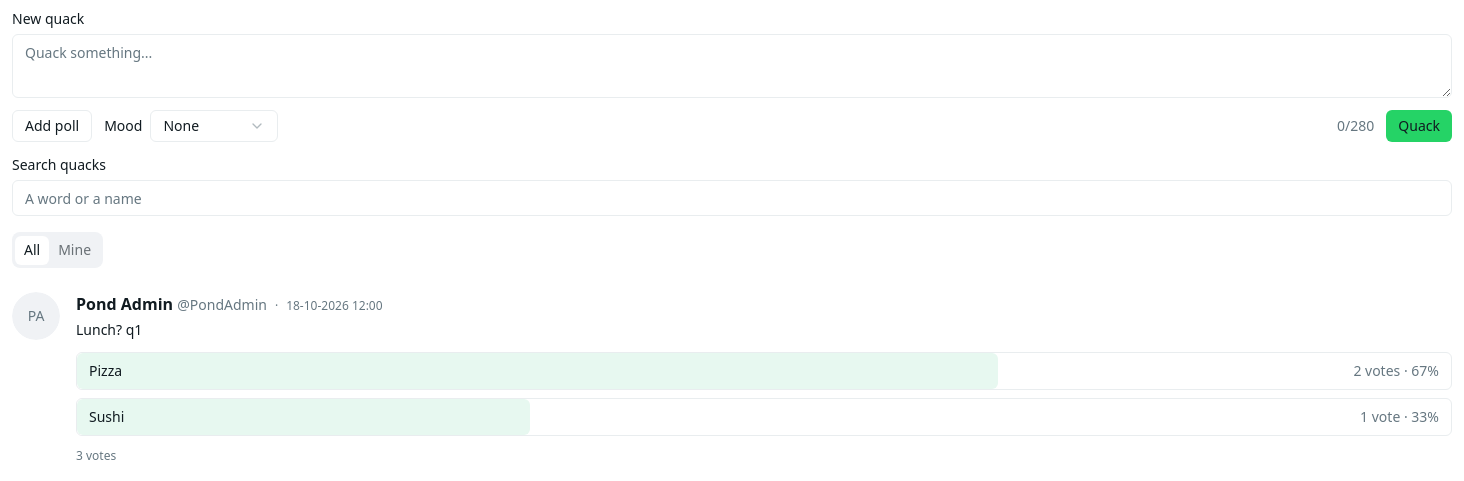
Scenario: voting › then shows the server's numbers, other people's votes included (D2)
The width and height of the screenshot is (1464, 481).
Expected: the button "Pizza 2 votes · 67%" is shown, [76,352,1452,390]
Click the button "Sushi 1 vote · 33%": point(304, 417) [76,398,1452,436]
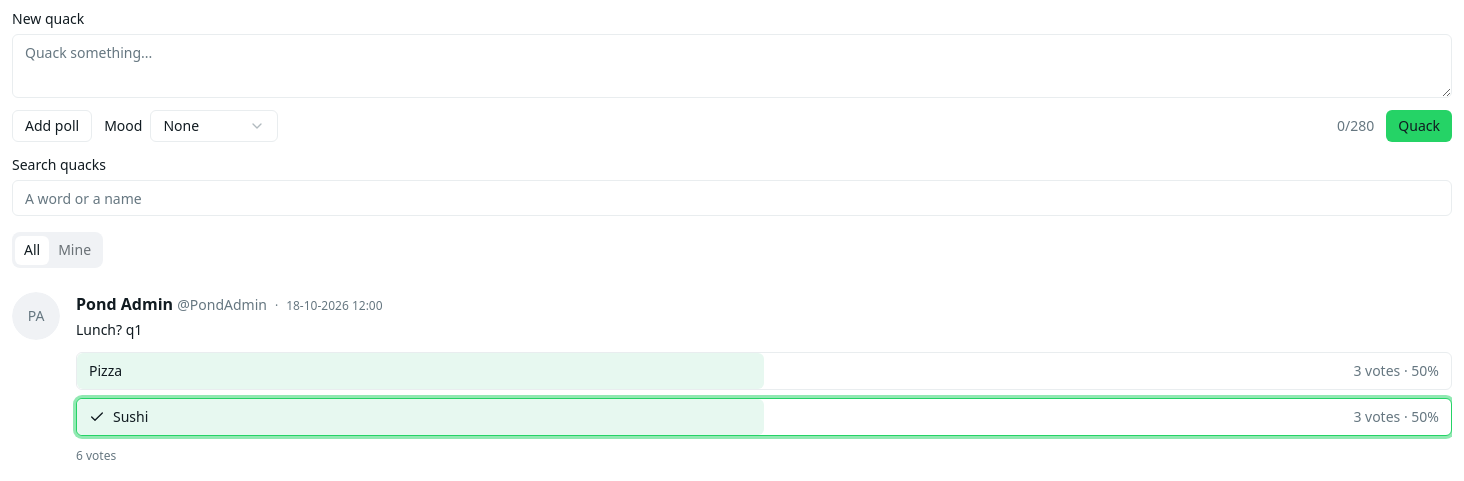
Now the text "6 votes" is shown, box [76,448,116,464]
Now the button "Sushi 3 votes · 50%" is shown, box [76,398,1452,436]
